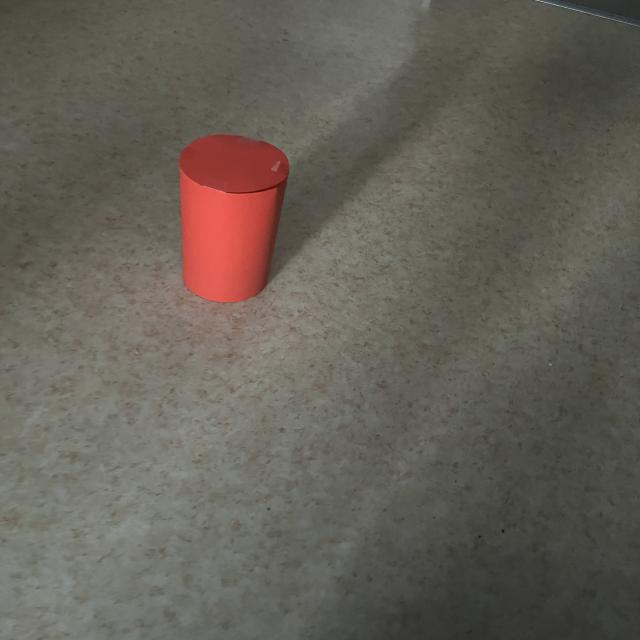przeszkoda: (179, 134, 289, 302)
